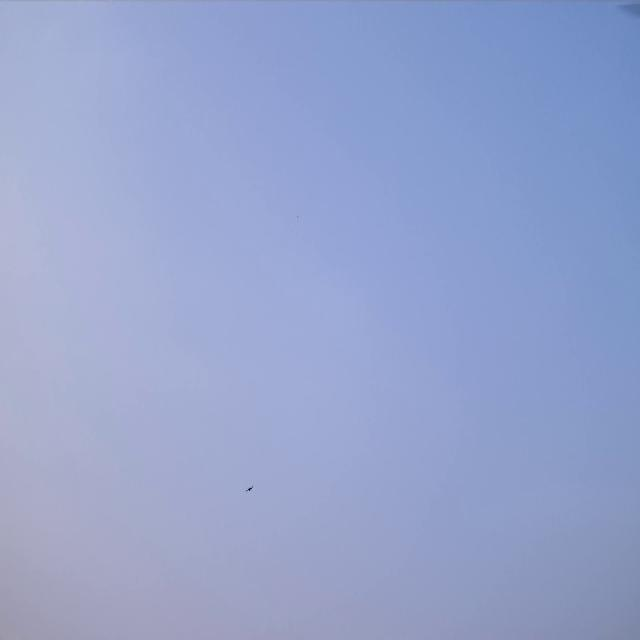UAV: (246, 484, 254, 493)
